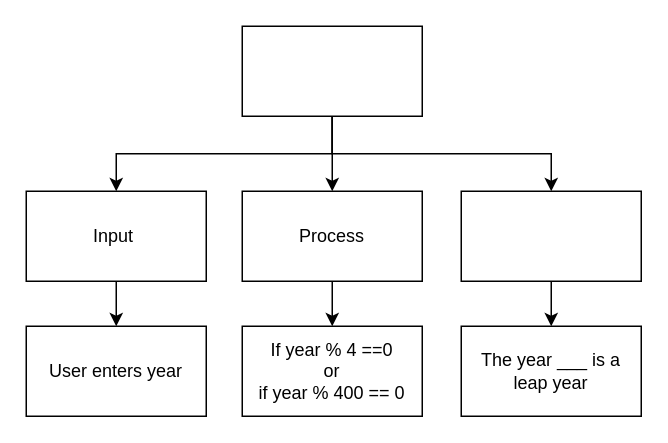
Some shapes in this 668 by 443 pixel diagram are drawn without their labels. Here are the shapes that lost their labels. From the top down, the centre of each, then its label:
At (x=331, y=70): "Leap Year".
At (x=550, y=235): "Output".
